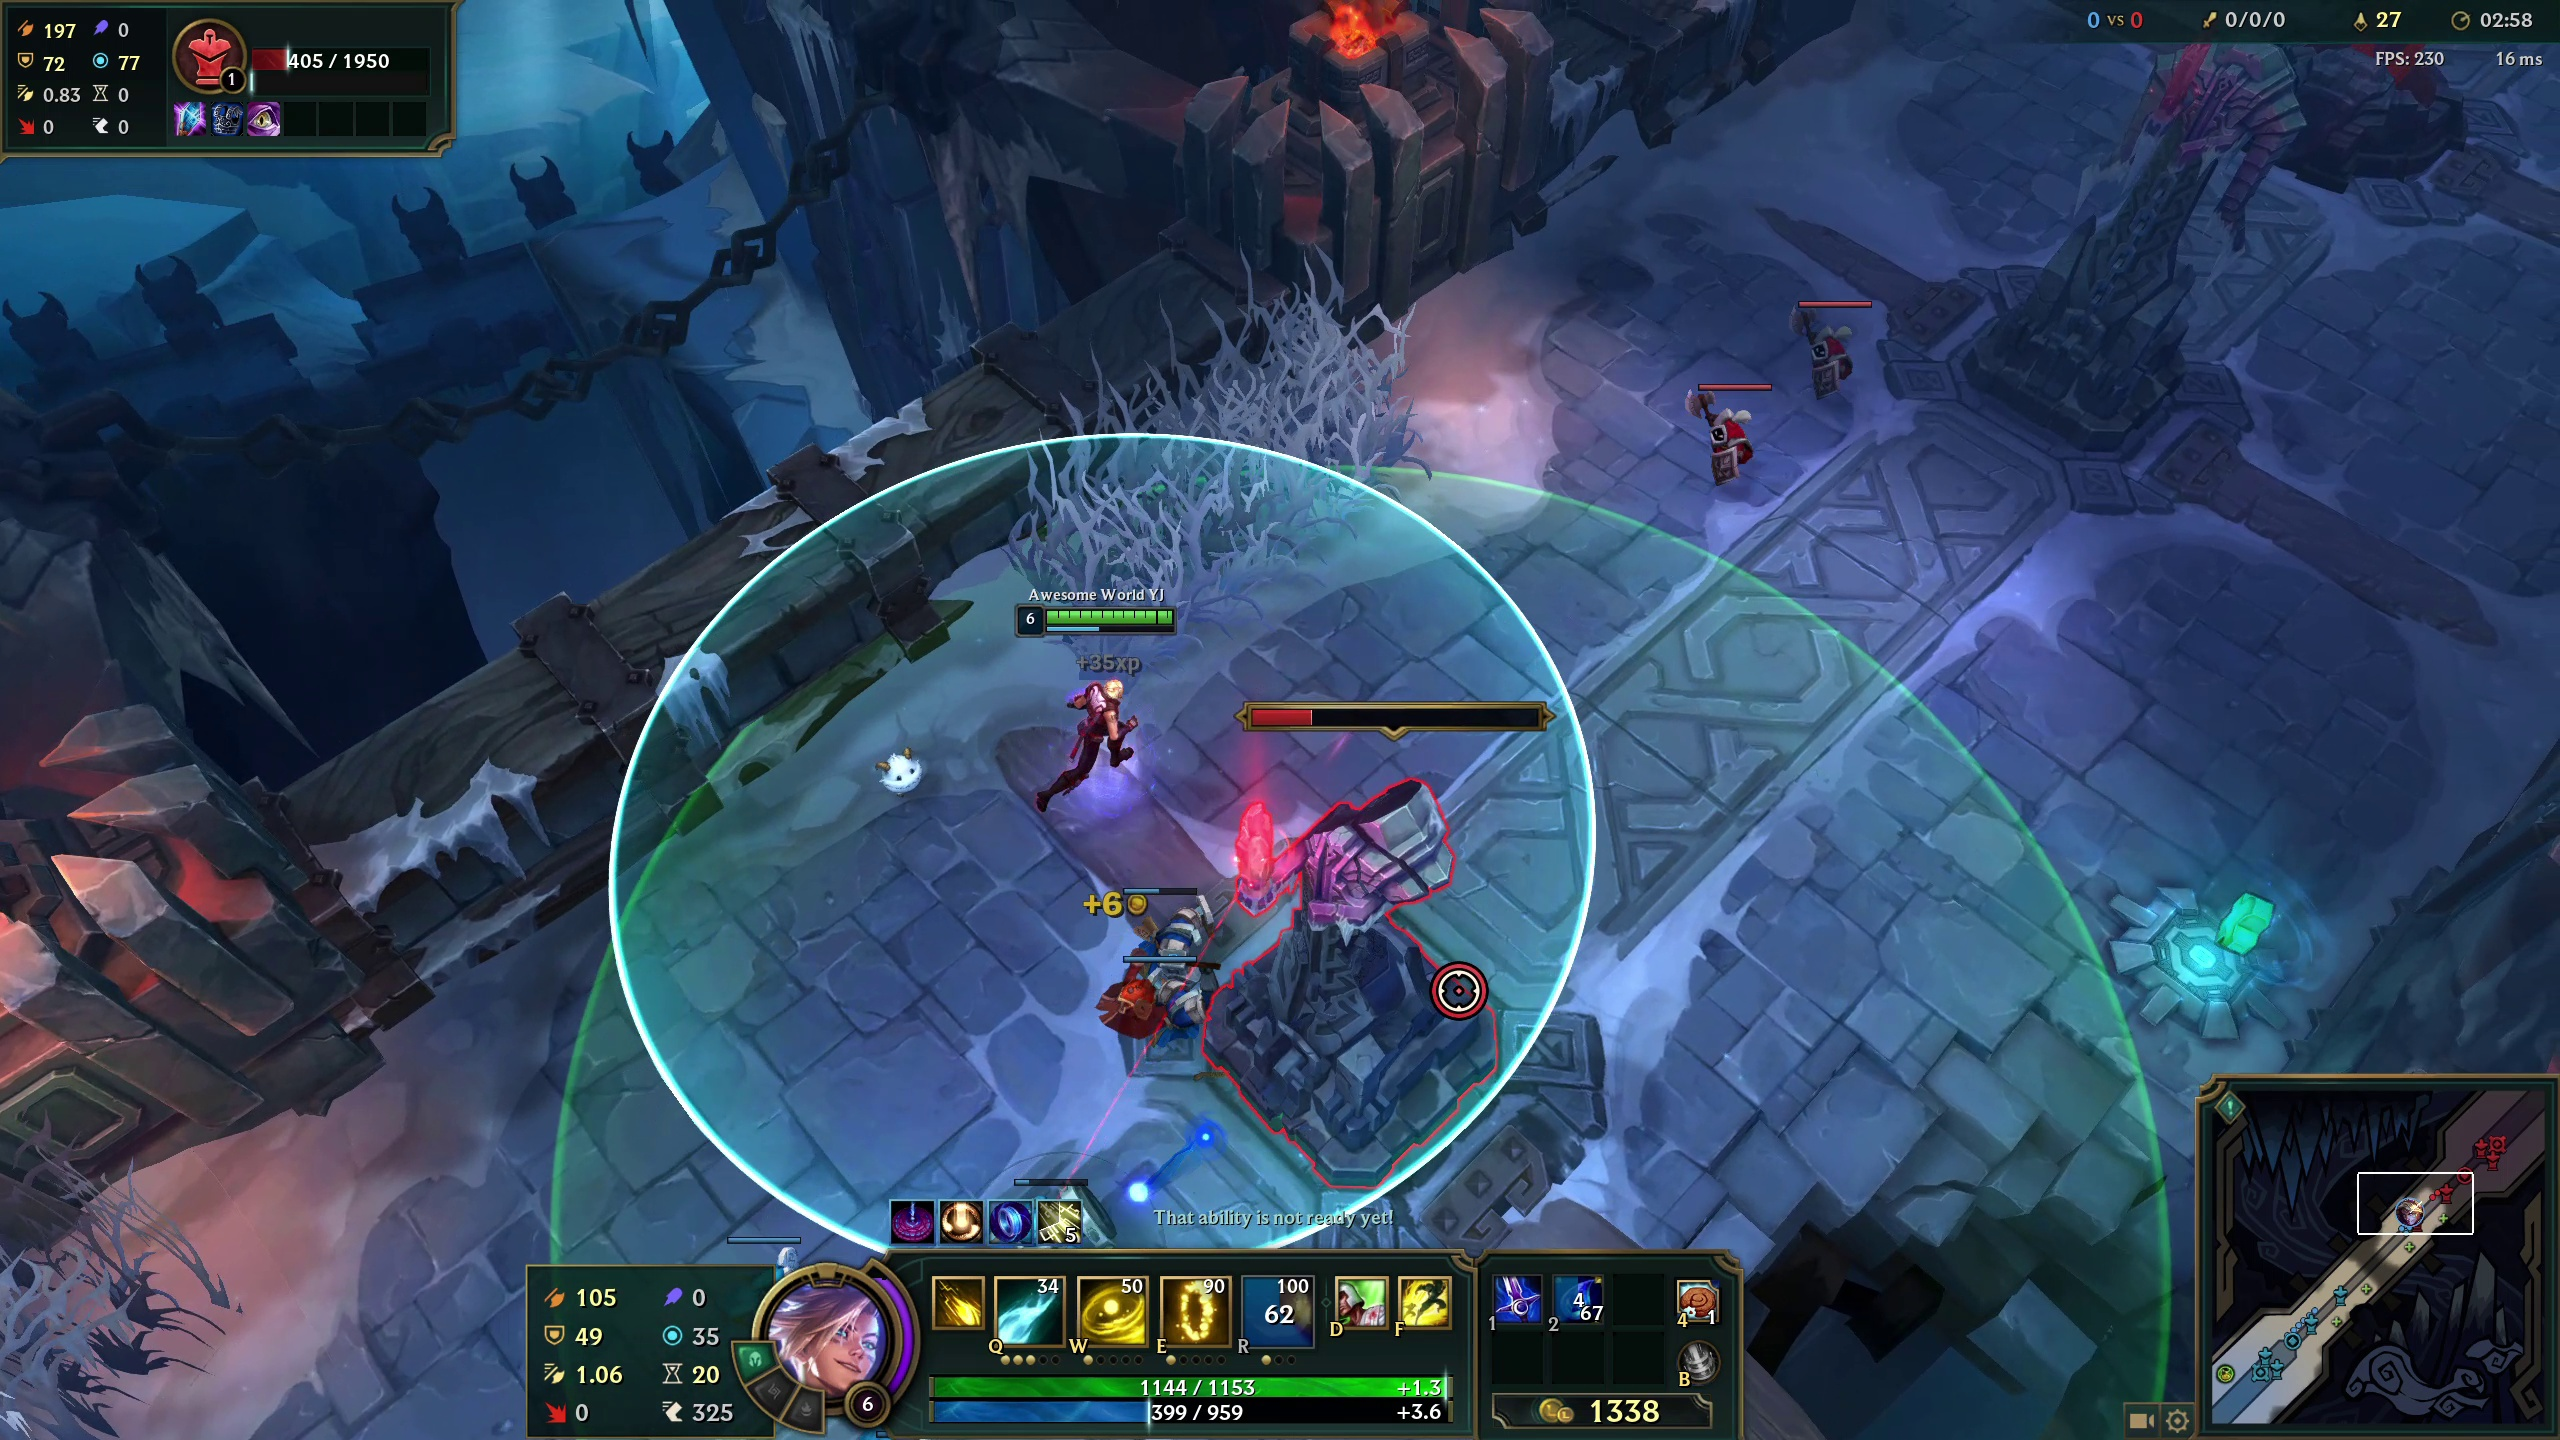EZ: (1013, 584, 1175, 811)
EnemyMinion: (1786, 287, 1880, 396), (1690, 375, 1781, 482)
Glass: (1006, 399, 1264, 607), (2, 1201, 134, 1429)
MyMinion: (1238, 844, 1340, 944), (1139, 949, 1218, 1020), (1124, 884, 1203, 953)
Turret: (1257, 689, 1528, 1176), (2017, 33, 2305, 452)
